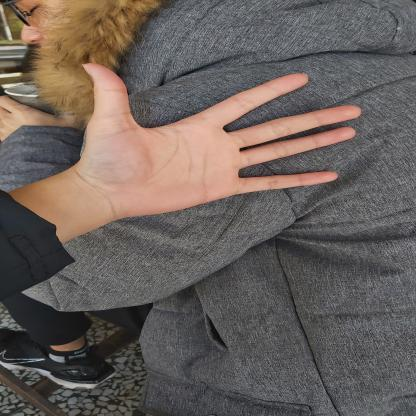bare_hand: (58, 58, 370, 234)
